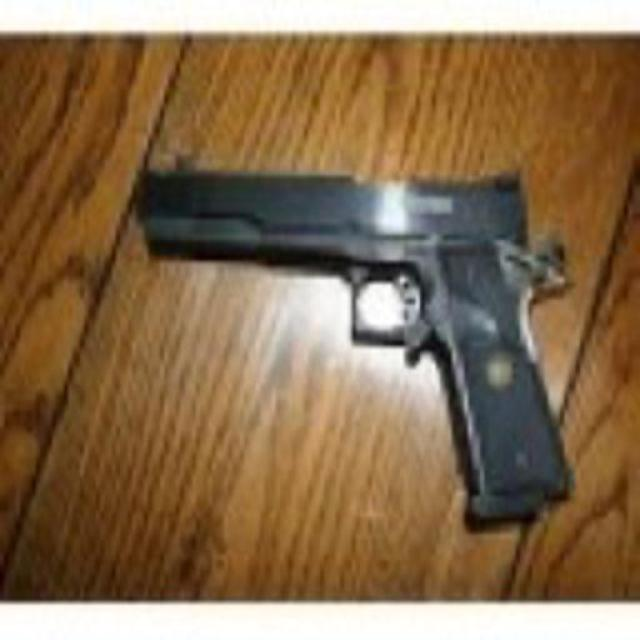pistol: (131, 154, 575, 538)
